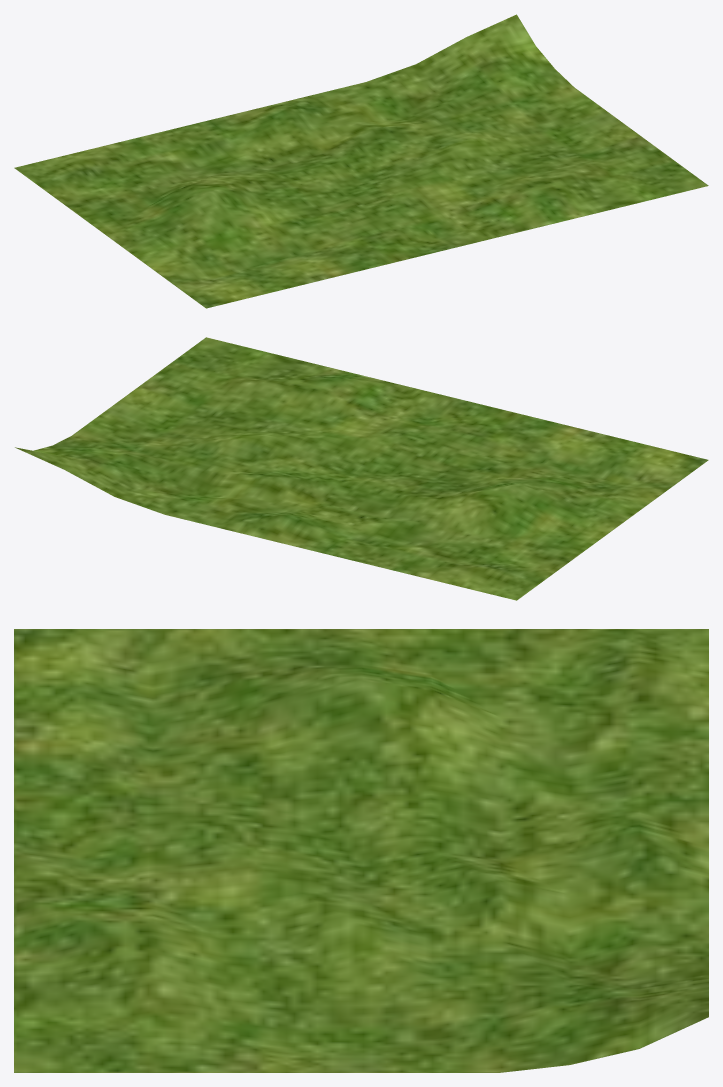
Rendered from ground.fbx.
3 views of the same model, one above another, from view 1: azimuth 30°, elevation 25°; view 2: azimuth 150°, elevation 25°; view 3: azimuth 270°, elevation 25° (orthographic). The views are drawn at different scales.
Visible parts, largest first — view 1: pPlane1; view 2: pPlane1; view 3: pPlane1.
Boxes of the visible parts, left/top/right/bottom form: pPlane1: left=14, top=14, right=708, bottom=308; pPlane1: left=15, top=337, right=708, bottom=600; pPlane1: left=14, top=629, right=708, bottom=1072.
Bounding box in the file's own units: 59.54 × 4.49 × 39.41.
